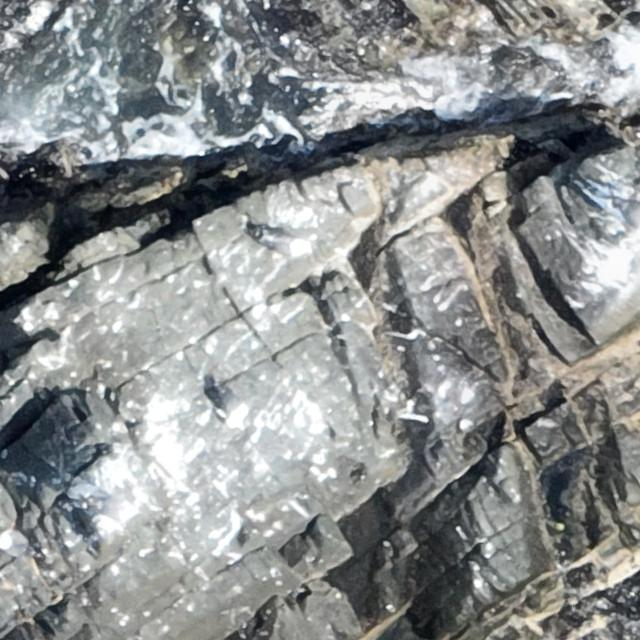umineko: (252, 226, 312, 254), (211, 382, 247, 428)
